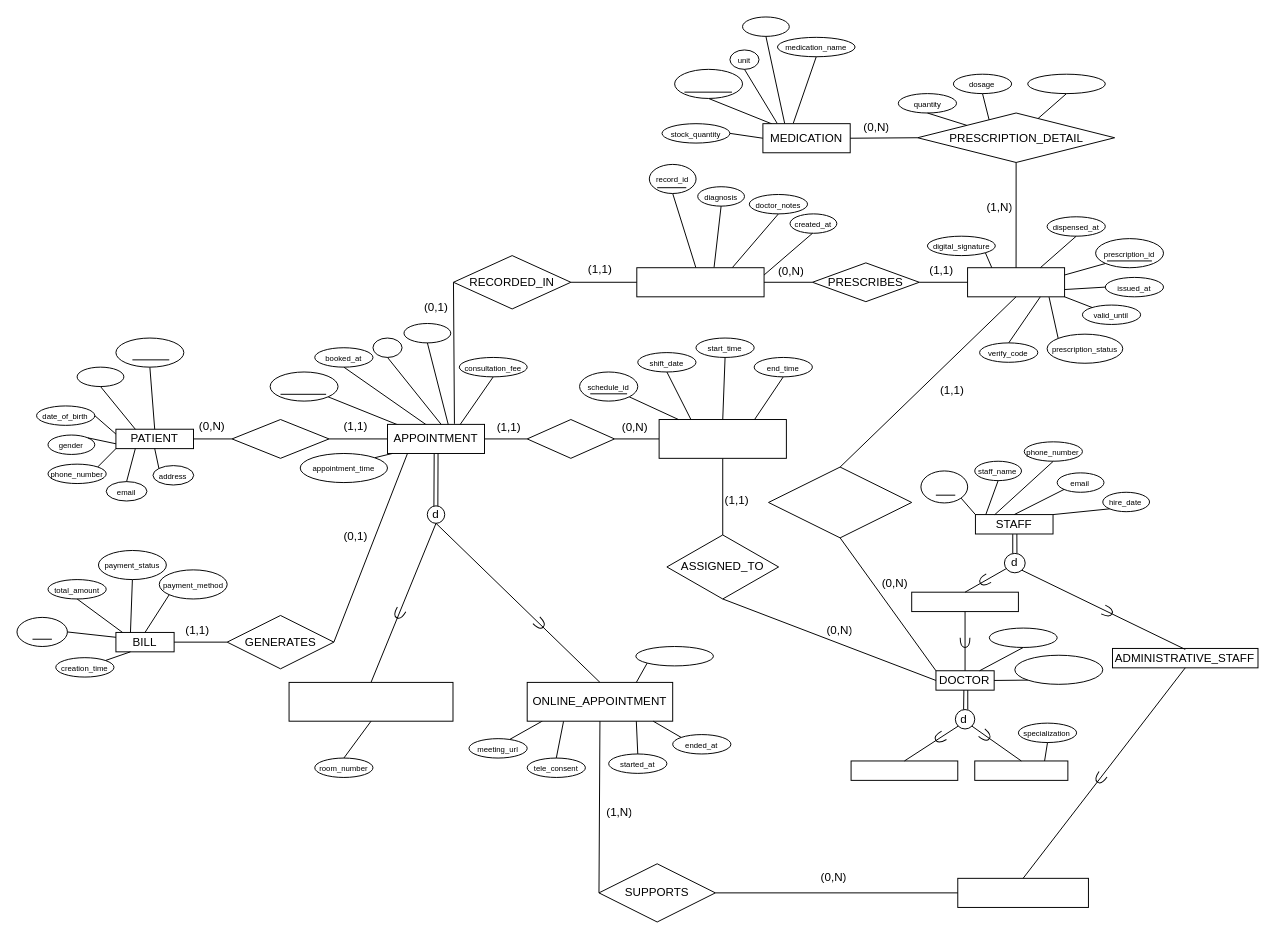
Some shapes in this 1276 by 939 pixel diagram are drawn without their labels. Each missing label, with the centre of its shape:
"appointment_id" belongs at point (303, 386).
"bill_id" belongs at point (41, 631).
"BOOKED" belongs at point (570, 438).
"connection_status" belongs at point (674, 656).
"full_name" belongs at point (100, 376).
"GENERAL_PRACTITIONER" belongs at point (904, 770).
"IN_PERSON_APPOINTMENT" belongs at point (370, 701).
"license_number" belongs at point (1022, 637).
"MEDICAL_RECORD" belongs at point (700, 282).
"MEDICAL_STAFF" belongs at point (964, 601).
"medication_id" belongs at point (708, 83).
"patient_id" belongs at point (149, 352).
"PRESCRIBED_BY" belongs at point (840, 502).
"PRESCRIPTION" belongs at point (1016, 282).
"REGISTERS" belongs at point (280, 438).
"SPECIALIST_DOCTOR" belongs at point (1021, 770).
"staff_id" belongs at point (944, 486).
"status" belongs at point (387, 347).
"symptoms" belongs at point (427, 333).
"TELEHEALTH_AGENT" belongs at point (1022, 892).
"unit_price" belongs at point (765, 26).
"usage_instruction" belongs at point (1066, 83).
"WORK_SCHEDULE" belongs at point (722, 438).
"year_of_experience" belongs at point (1058, 669).
